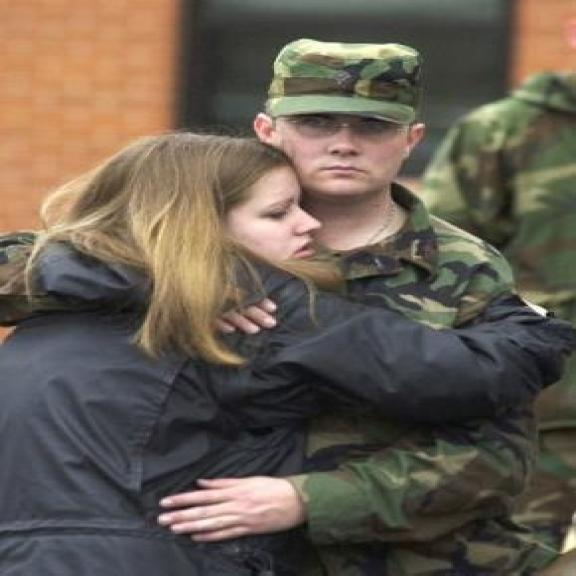face: (257, 110, 437, 195), (215, 158, 325, 272)
